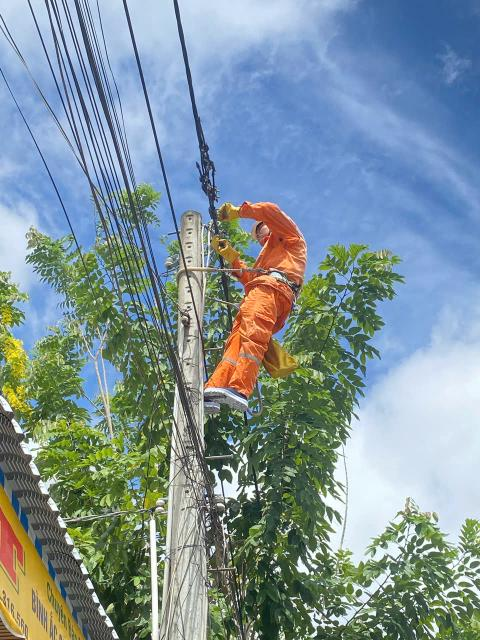gloves: (204, 230, 243, 264), (210, 197, 249, 221)
harness: (254, 262, 310, 306)
helmet: (245, 214, 275, 244)
shoes: (200, 384, 250, 410), (190, 390, 221, 416)
